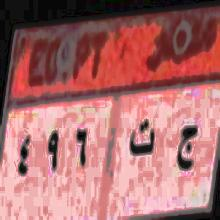4: (15, 132, 32, 180)
6: (74, 123, 89, 176)
9: (44, 126, 61, 180)
jeem: (173, 121, 199, 182)
taa: (126, 116, 157, 160)
